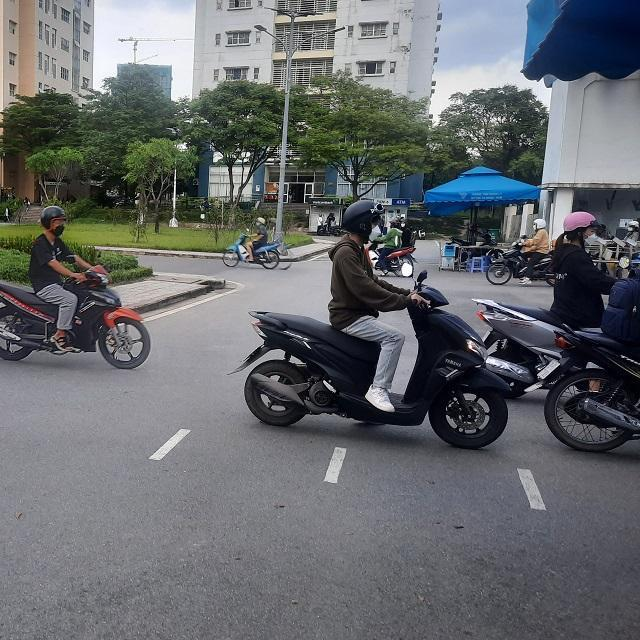Helmet: (344, 198, 386, 246), (562, 210, 602, 250), (39, 205, 69, 238)
